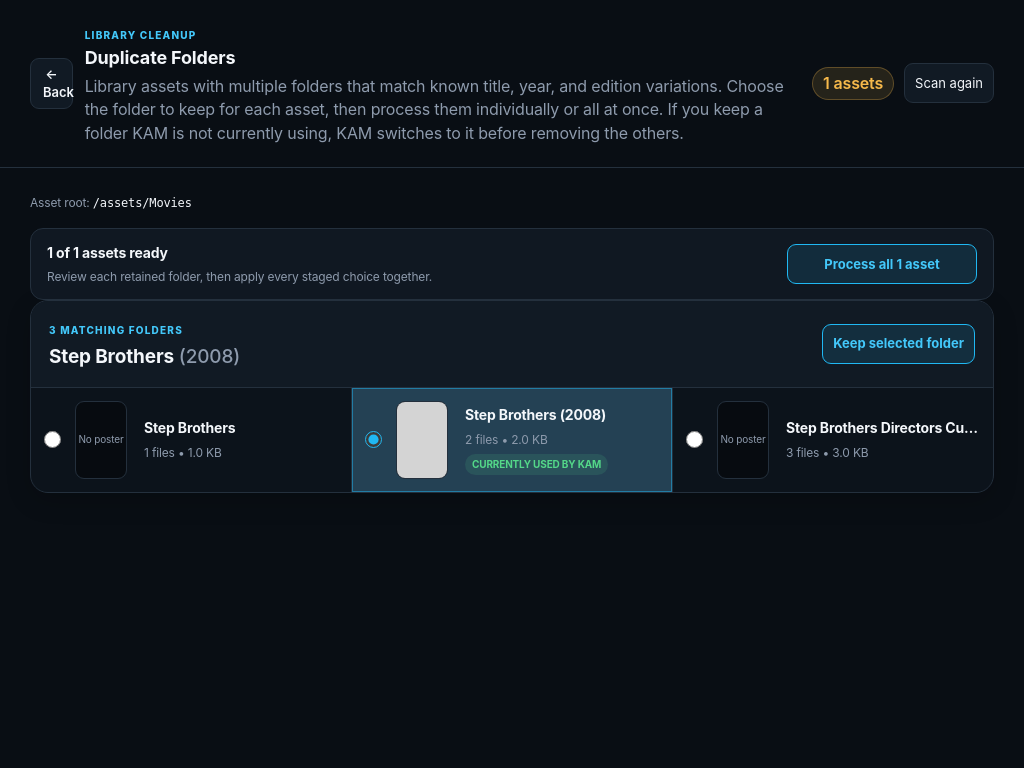
Test: DuplicateFoldersPage › defaults to the active folder and lets the user choose a different folder to keep
The width and height of the screenshot is (1024, 768).
Check: the heading "Step Brothers (2008)" is shown, box left=49, top=343, right=240, bottom=371
Check: the radio button labelled "Step Brothers (2008) 2 files • 2.0 KB Currently used by KAM" is checked, box left=365, top=431, right=382, bottom=448
Click the 3rd radio button: (694, 440) left=686, top=431, right=703, bottom=448
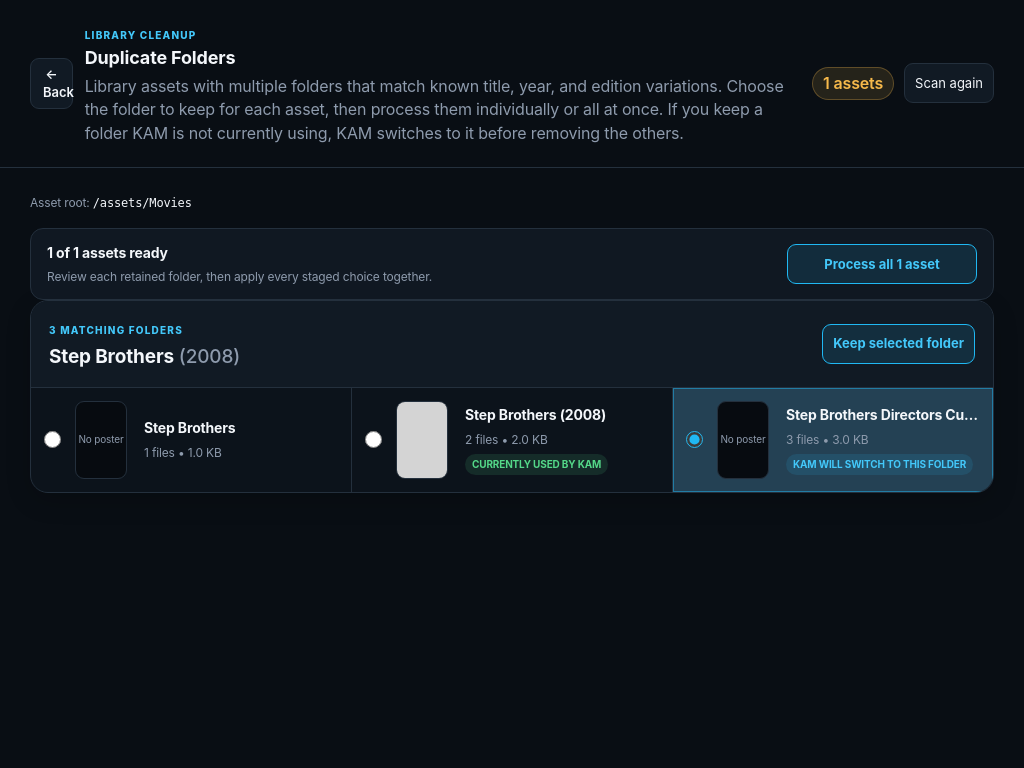
Click the button "Keep selected folder": (899, 344) left=822, top=324, right=975, bottom=364
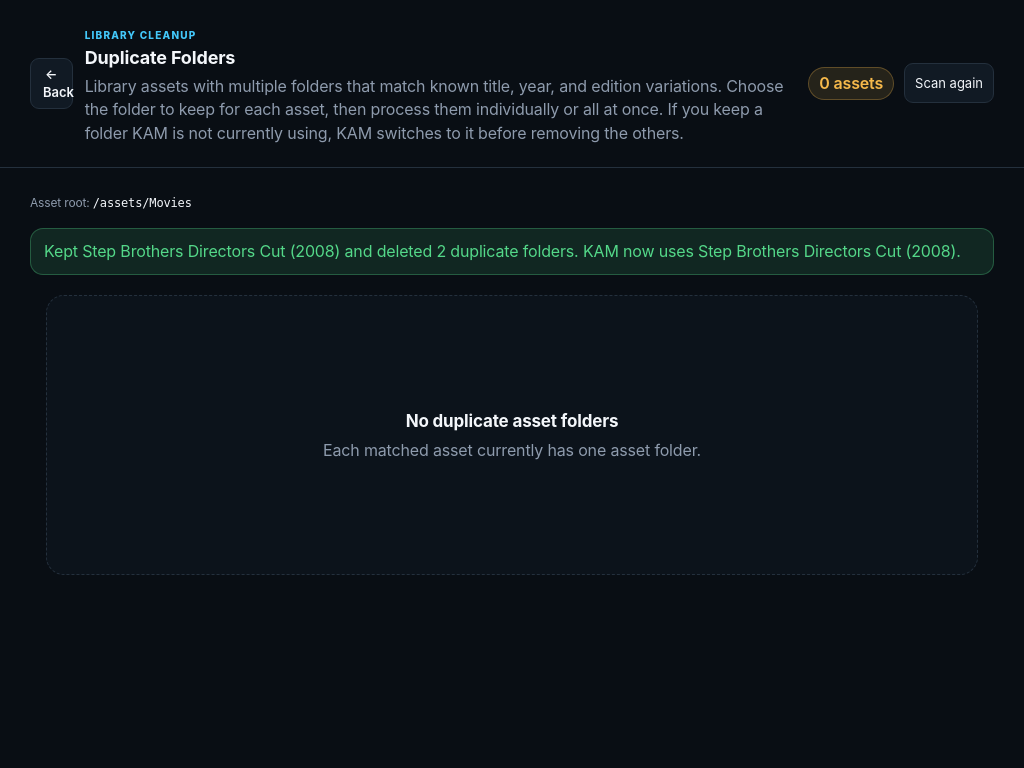
Check: the text "No duplicate asset folders" is shown, box left=406, top=410, right=618, bottom=430
Check: the message shows "Kept Step Brothers Directors Cut (2008) and deleted 2 duplicate folders.", box left=44, top=241, right=961, bottom=261
Check: the message shows "KAM now uses Step Brothers Directors Cut (2008).", box left=44, top=241, right=961, bottom=261
